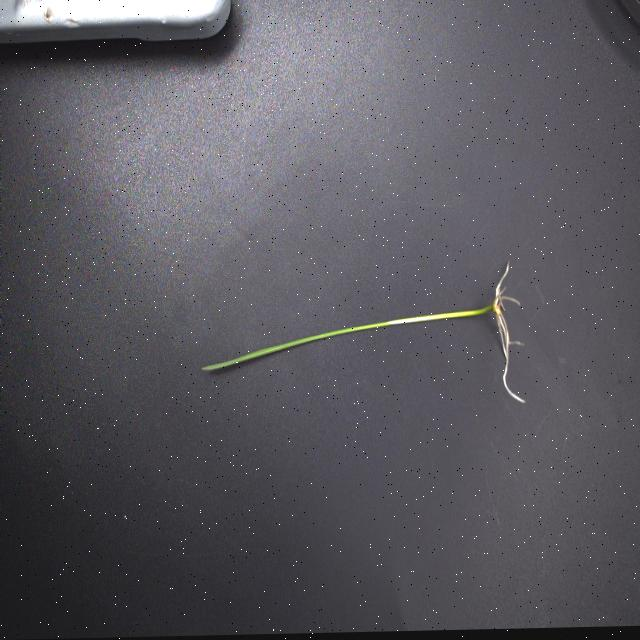leaf: (202, 318, 390, 375)
root: (493, 262, 528, 404)
steb: (390, 303, 494, 325)
